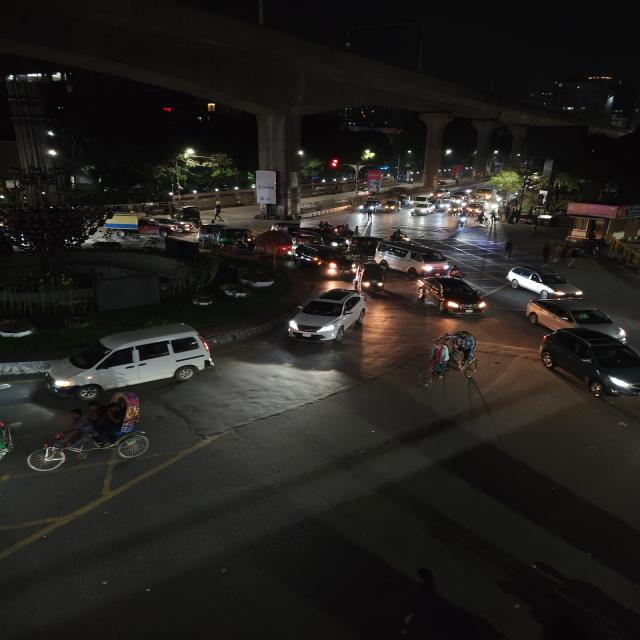bicycle: (502, 240, 514, 263), (473, 216, 490, 228)
car: (46, 319, 220, 397), (534, 326, 640, 400), (285, 287, 370, 344), (522, 296, 632, 340), (412, 275, 491, 317), (374, 239, 459, 277), (502, 263, 586, 298), (290, 244, 352, 274), (410, 201, 436, 217), (356, 200, 381, 212), (430, 188, 452, 198)
cng: (353, 264, 390, 294), (464, 201, 484, 216), (384, 197, 401, 213), (398, 194, 411, 206)
motorcycle: (387, 227, 410, 241), (453, 216, 470, 232)
pedestrian: (564, 247, 581, 269), (538, 242, 554, 264), (551, 242, 563, 264)
rickshaw: (24, 390, 160, 474), (416, 328, 486, 390), (466, 201, 486, 217), (445, 204, 460, 216)
truck: (472, 185, 492, 199)
